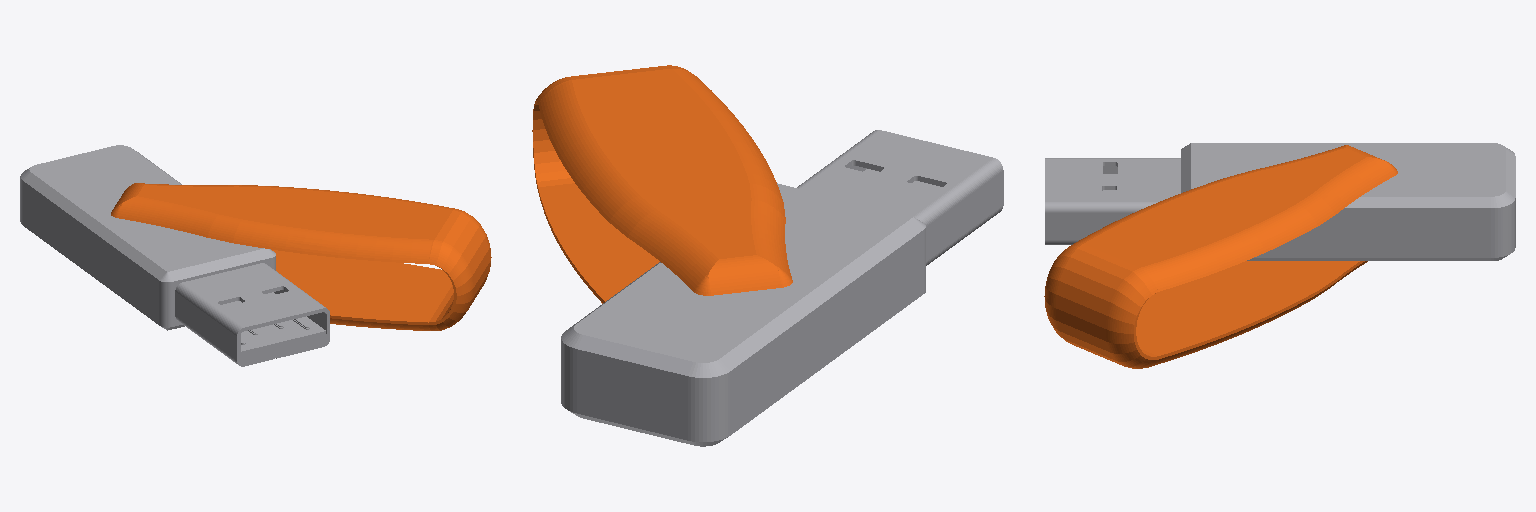
URDF robot description (USB_100109):
<?xml version="1.0"?>
<robot name="USB_100109">
  <!-- Meshes come from the dataset *_rotate exports, which share the joint frame. -->
  <link name="base_link">
    <visual>
      <origin xyz="0 0 0" rpy="0 0 0"/>
      <geometry>
        <mesh filename="meshes/USB_100109_base.obj"/>
      </geometry>
      <material name="steel_grey">
        <color rgba="0.70 0.70 0.72 1.0"/>
      </material>
    </visual>
    <collision>
      <origin xyz="0 0 0" rpy="0 0 0"/>
      <geometry>
        <mesh filename="meshes/USB_100109_base.obj"/>
      </geometry>
    </collision>
    <inertial>
      <origin xyz="-0.232902503 -0.150671509 0.010658187" rpy="0 0 0"/>
      <mass value="0.034318766"/>
      <inertia ixx="0.007445256" ixy="0.000000000" ixz="0.000000000" iyy="0.000877825" iyz="0.000000000" izz="0.007989252"/>
    </inertial>
  </link>

  <link name="moving_link">
    <visual>
      <origin xyz="0 0 0" rpy="0 0 0"/>
      <geometry>
        <mesh filename="meshes/USB_100109_moving.obj"/>
      </geometry>
      <material name="handle_orange">
        <color rgba="0.93 0.47 0.16 1.0"/>
      </material>
    </visual>
    <collision>
      <origin xyz="0 0 0" rpy="0 0 0"/>
      <geometry>
        <mesh filename="meshes/USB_100109_moving.obj"/>
      </geometry>
    </collision>
    <inertial>
      <origin xyz="0.380505395 -0.390387960 0.037236002" rpy="0 0 0"/>
      <mass value="0.065681234"/>
      <inertia ixx="0.008619782" ixy="0.000000000" ixz="0.000000000" iyy="0.008609106" iyz="0.000000000" izz="0.015714171"/>
    </inertial>
  </link>

  <joint name="scissor_hinge" type="revolute">
    <origin xyz="-0.240558504 0.387080368 0.000000000" rpy="0 0 0"/>
    <parent link="base_link"/>
    <child link="moving_link"/>
    <axis xyz="0.000000000 0.000000000 1.000000000"/>
    <limit lower="-0.785398163" upper="0.000000000" effort="5.0" velocity="4.0"/>
    <dynamics damping="0.05" friction="0.02"/>
  </joint>
</robot>

--- What the picture shows (computed from the rendered views, not written in the file) ---
The picture shows the robot from 3 angles, left to right: view 1: azimuth 30°, elevation 25°; view 2: azimuth 150°, elevation 25°; view 3: azimuth 270°, elevation 25°; orthographic projection.
Robot: USB_100109 — 2 links, 1 joints (1 revolute); root link base_link; default pose: all joints at 0.
Links seen in each view (by area): view 1: moving_link, base_link; view 2: base_link, moving_link; view 3: moving_link, base_link.
Link boxes in pixels (<box>): moving_link: <box>111,183,491,330</box>; base_link: <box>20,145,329,366</box>; base_link: <box>561,130,1003,446</box>; moving_link: <box>532,65,792,303</box>; moving_link: <box>1044,145,1397,368</box>; base_link: <box>1045,143,1515,260</box>.
Bounding box of the posed robot: 1.3 × 1.6 × 0.372 m (x, y, z).
2 mesh visuals loaded from 2 distinct referenced files (2 OBJ).
